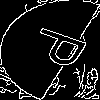P: (25, 25, 100, 75)
